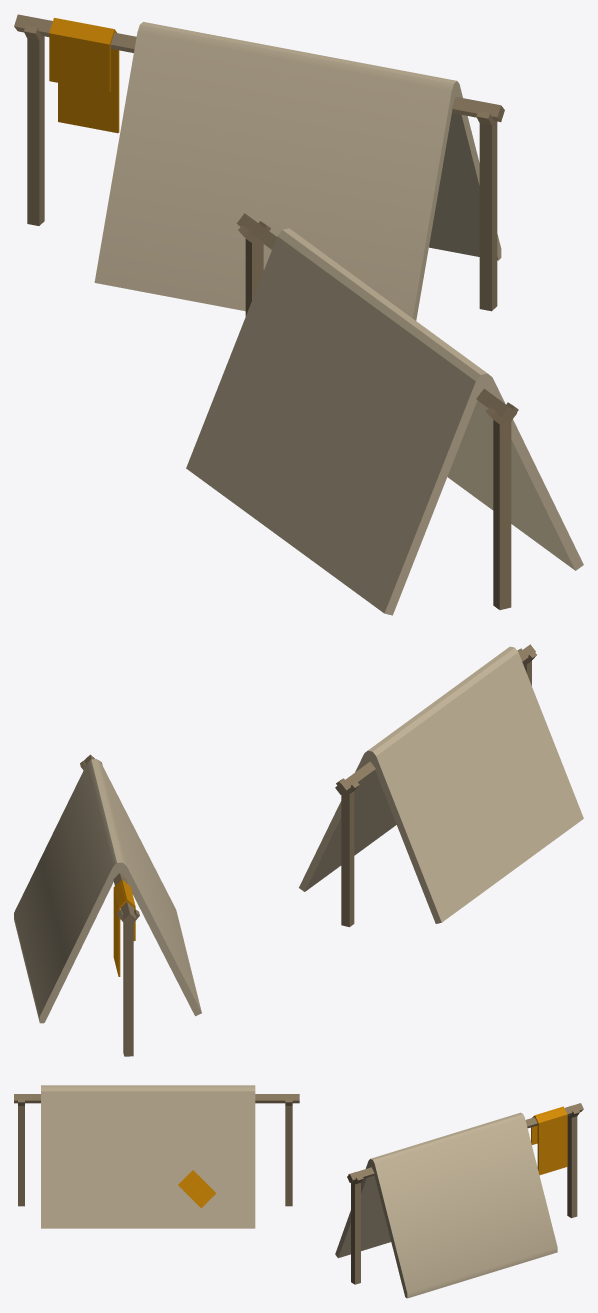
Rendered from Tents.glb.
3 renders of one model, top to bottom at view 1: azimuth 30°, elevation 25°; view 2: azimuth 150°, elevation 25°; view 3: azimuth 270°, elevation 25°, orthographic. The views are drawn at different scales.
Visible parts, largest first — view 1: Tent, Tent.002, Tent.001, Cloth, Poles.005, Poles, Tent.003, Poles.001, Cloth.001, Poles.002, Poles.003, Poles.004; view 2: Tent.002, Tent, Tent.001, Poles.003, Tent.003, Poles.001, Cloth.001, Poles.004; view 3: Tent.001, Tent, Cloth.001, Tent.003, Poles.001, Poles, Poles.003, Poles.005, Patch, Poles.004, Poles.002.
Part boxes in pixels (x1=…): Tent: x1=94, y1=22, x2=501, y2=320; Tent.002: x1=186, y1=236, x2=483, y2=615; Tent.001: x1=447, y1=377, x2=583, y2=570; Cloth: x1=49, y1=17, x2=114, y2=92; Poles.005: x1=485, y1=402, x2=518, y2=609; Poles: x1=476, y1=111, x2=497, y2=311; Tent.003: x1=278, y1=228, x2=492, y2=392; Poles.001: x1=23, y1=25, x2=44, y2=225; Cloth.001: x1=58, y1=30, x2=119, y2=133; Poles.002: x1=14, y1=14, x2=504, y2=121; Poles.003: x1=238, y1=221, x2=270, y2=316; Poles.004: x1=236, y1=213, x2=516, y2=423; Tent.002: x1=370, y1=652, x2=583, y2=923; Tent: x1=14, y1=759, x2=201, y2=1023; Tent.001: x1=299, y1=753, x2=396, y2=891; Poles.003: x1=336, y1=778, x2=359, y2=927; Tent.003: x1=364, y1=646, x2=517, y2=763; Poles.001: x1=117, y1=909, x2=139, y2=1056; Cloth.001: x1=113, y1=881, x2=126, y2=976; Poles.004: x1=335, y1=644, x2=535, y2=794; Tent.001: x1=41, y1=1091, x2=255, y2=1228; Tent: x1=335, y1=1112, x2=557, y2=1298; Cloth.001: x1=535, y1=1108, x2=567, y2=1175; Tent.003: x1=41, y1=1085, x2=255, y2=1091; Poles.001: x1=567, y1=1105, x2=579, y2=1218; Poles: x1=348, y1=1172, x2=363, y2=1284; Poles.003: x1=285, y1=1099, x2=292, y2=1206; Poles.005: x1=18, y1=1099, x2=24, y2=1206; Patch: x1=178, y1=1170, x2=216, y2=1208; Poles.004: x1=14, y1=1094, x2=299, y2=1103; Poles.002: x1=347, y1=1103, x2=583, y2=1182.
Size of the model in its own units: 3.58 by 1.64 by 7.18.
